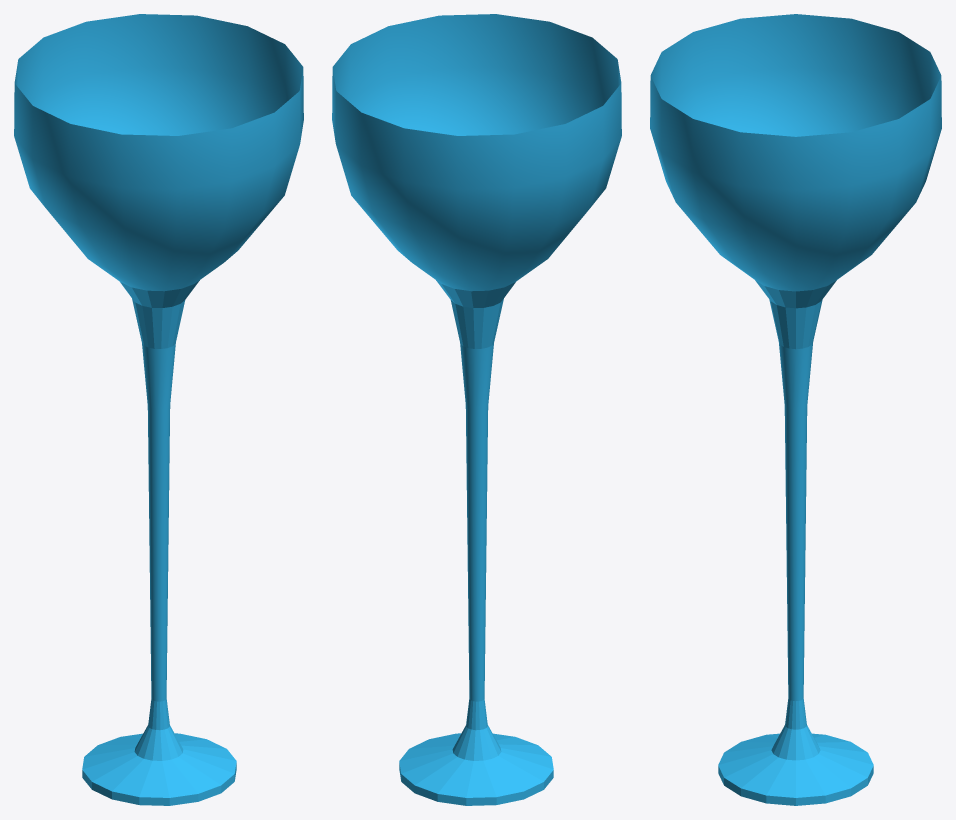
Rendered from SM_glass_05.fbx.
The picture shows the model from 3 angles, left to right: view 1: azimuth 30°, elevation 25°; view 2: azimuth 150°, elevation 25°; view 3: azimuth 270°, elevation 25°; orthographic projection.
Visible parts, largest first — view 1: glass_05; view 2: glass_05; view 3: glass_05.
Boxes of the visible parts, x1,y1,x2,y2 form: glass_05: (14,14,303,805); glass_05: (332,14,621,805); glass_05: (650,14,941,805).
Size of the model in its own units: 11.11 by 29.28 by 11.11.
